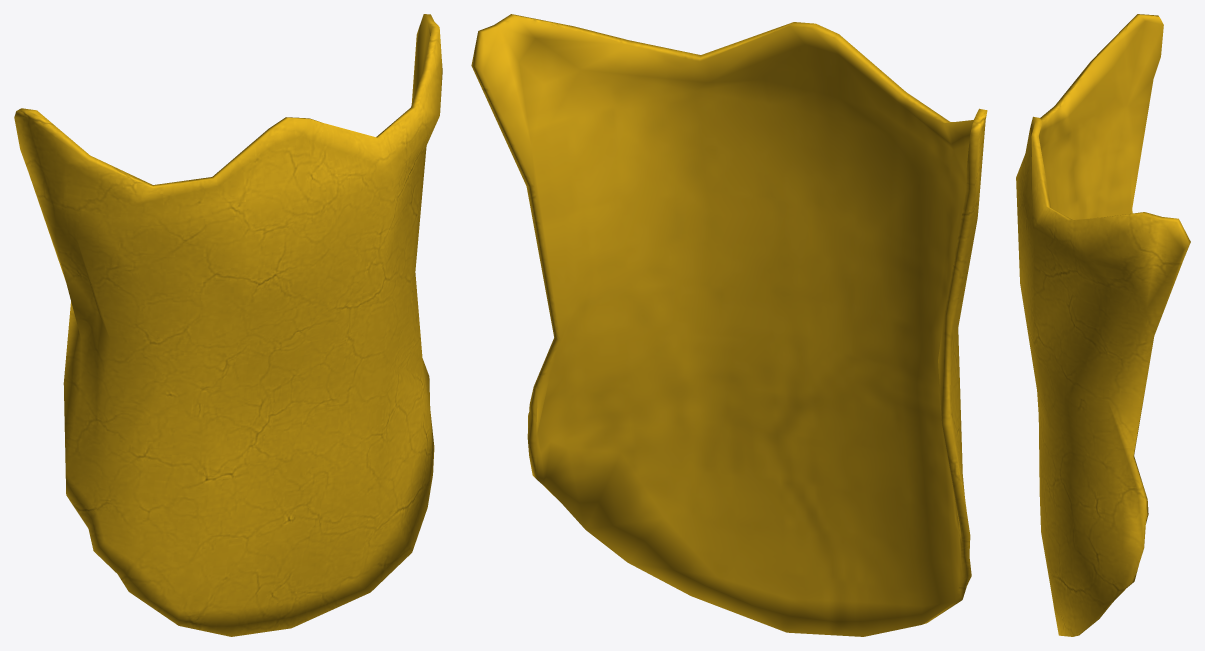
File: MaleFattyLayer.fbx
3 views of the same model, side by side, from view 1: azimuth 30°, elevation 25°; view 2: azimuth 150°, elevation 25°; view 3: azimuth 270°, elevation 25° (orthographic). The views are drawn at different scales.
Visible parts, largest first — view 1: Fatty Layer; view 2: Fatty Layer; view 3: Fatty Layer.
Boxes of the visible parts, left/top/right/bottom form: Fatty Layer: left=14, top=14, right=442, bottom=636; Fatty Layer: left=471, top=14, right=987, bottom=636; Fatty Layer: left=1016, top=14, right=1190, bottom=636.
Size of the model in its own units: 0.266 by 0.3206 by 0.1015.
